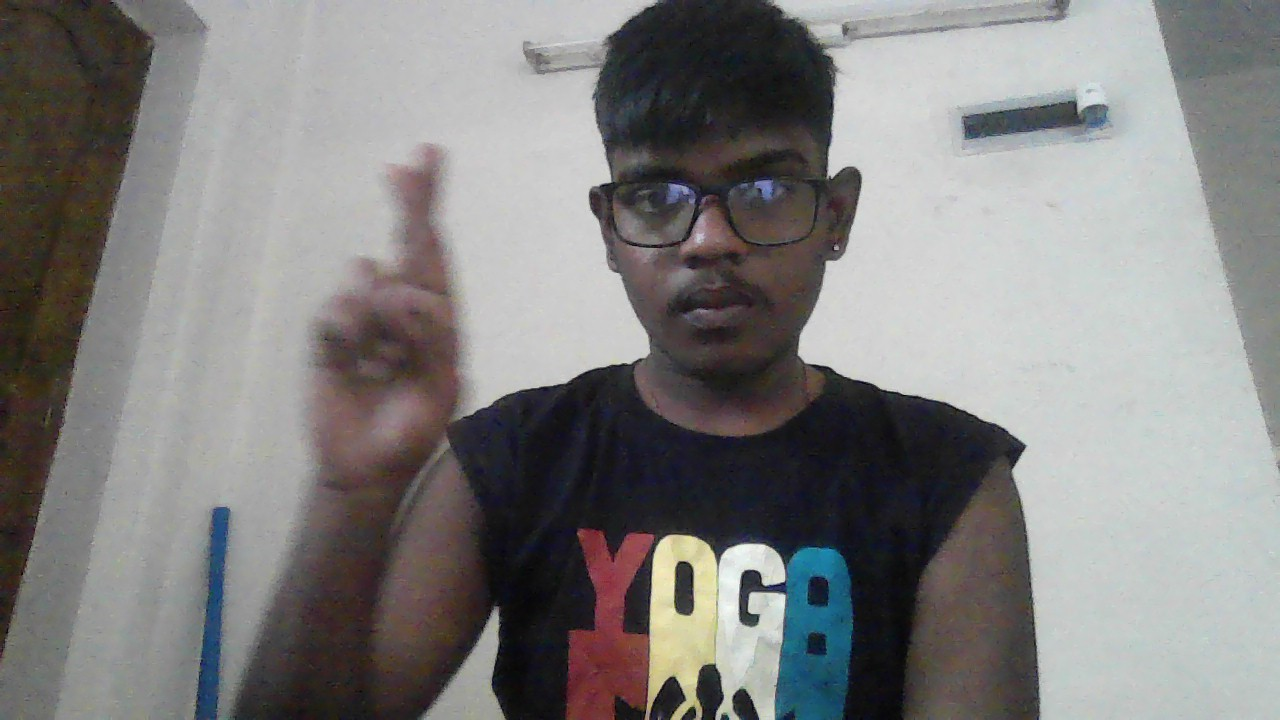R: (295, 142, 462, 495)
